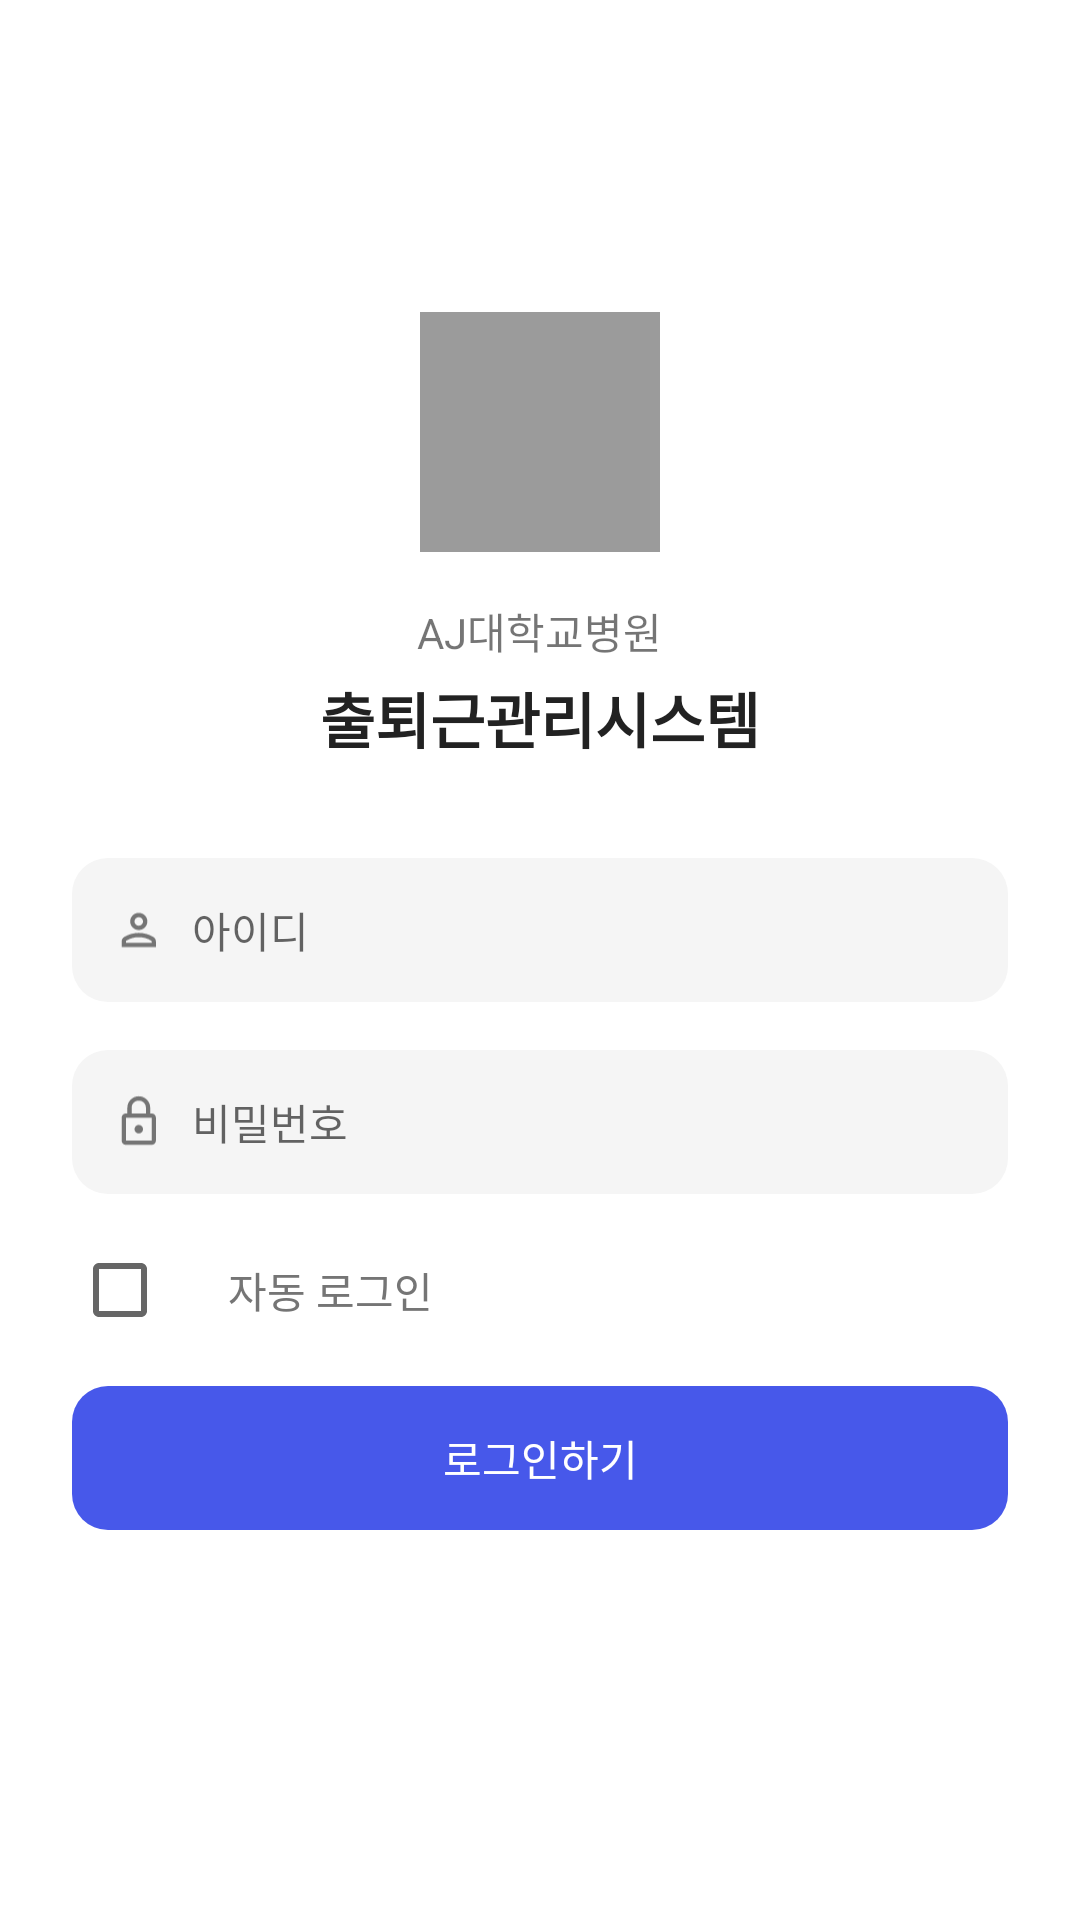

Screen size 1080 x 1920. Icon name, then its center in pixels as [x,y]:
lock: [138,1120]
user: [138,930]
